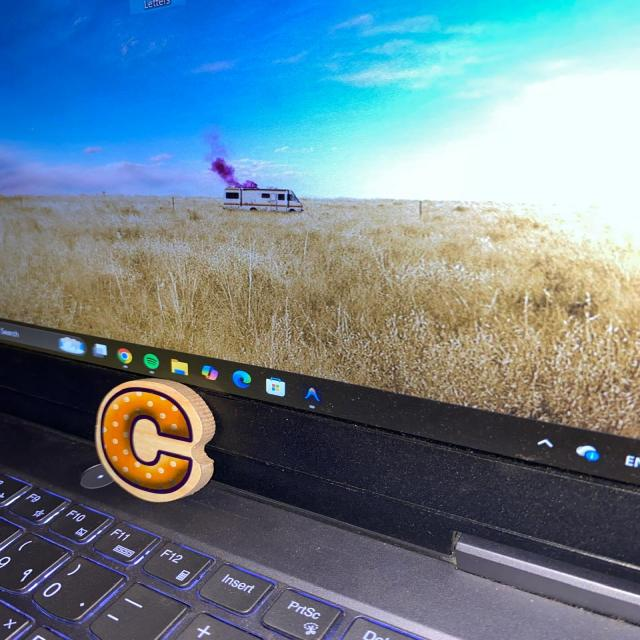C: (97, 379, 214, 502)
